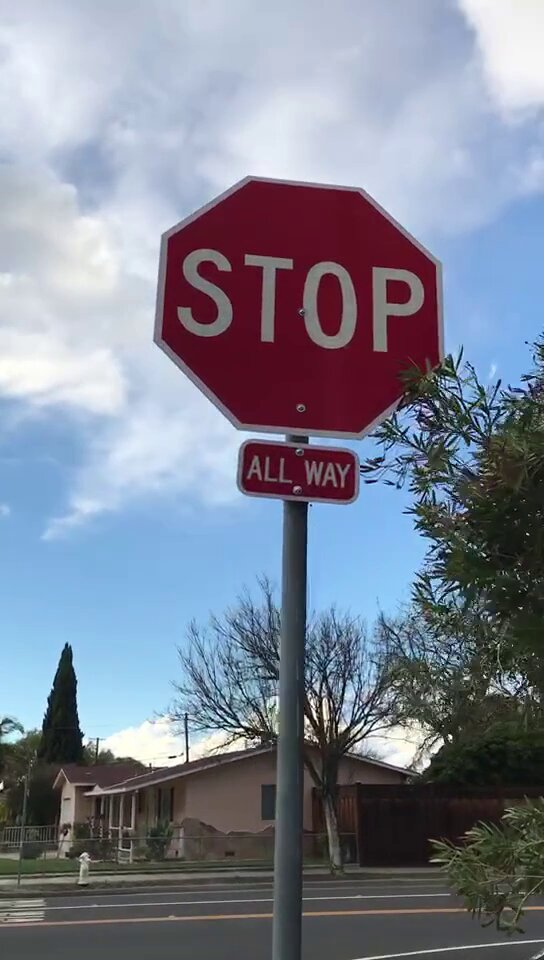stop_sign: (155, 176, 444, 440)
